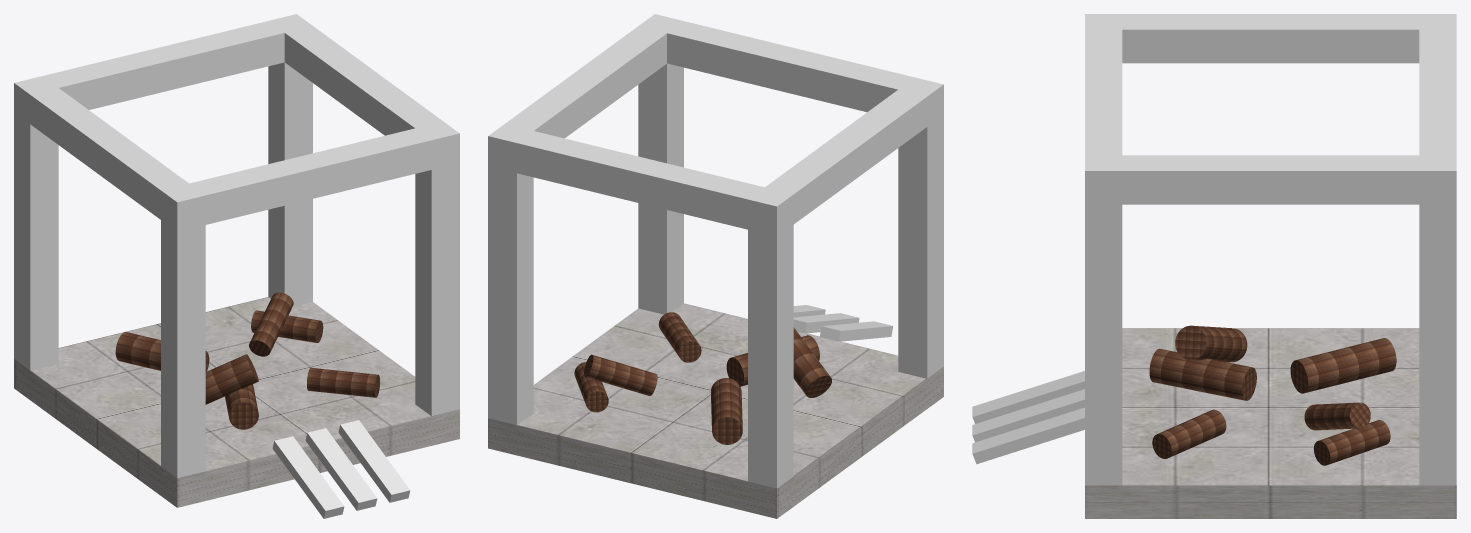
File: woodField.fbx
3 renders of one model, left to right at view 1: azimuth 30°, elevation 25°; view 2: azimuth 150°, elevation 25°; view 3: azimuth 270°, elevation 25°, orthographic. The views are drawn at different scales.
Visible parts, largest first — view 1: 立方體, 立方體.004, 立方體.003, 立方體.001, 立方體.008, 立方體.005, 立方體.007, 立方體.006, 立方體.002, 立方體.011, 立方體.009, 立方體.010 (+6 smaller); view 2: 立方體, 立方體.001, 立方體.002, 立方體.004, 立方體.007, 立方體.005, 立方體.008, 立方體.006, 立方體.003, 圓柱體.004, 圓柱體.006, 圓柱體.005 (+5 smaller); view 3: 立方體, 立方體.006, 立方體.005, 立方體.002, 立方體.003, 立方體.007, 立方體.008, 圓柱體.004, 圓柱體.003, 立方體.010, 圓柱體.005, 立方體.009 (+4 smaller).
Boxes of the visible parts, x1=… form: 立方體: x1=14, y1=297, x2=459, y2=507; 立方體.004: x1=161, y1=220, x2=205, y2=478; 立方體.003: x1=415, y1=163, x2=459, y2=416; 立方體.001: x1=14, y1=112, x2=58, y2=370; 立方體.008: x1=189, y1=128, x2=431, y2=224; 立方體.005: x1=14, y1=76, x2=205, y2=231; 立方體.007: x1=43, y1=21, x2=284, y2=109; 立方體.006: x1=269, y1=14, x2=459, y2=169; 立方體.002: x1=268, y1=62, x2=312, y2=306; 立方體.011: x1=272, y1=436, x2=344, y2=518; 立方體.009: x1=305, y1=428, x2=377, y2=510; 立方體.010: x1=338, y1=420, x2=410, y2=502; 立方體: x1=488, y1=303, x2=943, y2=518; 立方體.001: x1=748, y1=225, x2=793, y2=488; 立方體.002: x1=488, y1=166, x2=533, y2=425; 立方體.004: x1=898, y1=115, x2=943, y2=378; 立方體.007: x1=517, y1=131, x2=764, y2=229; 立方體.005: x1=748, y1=77, x2=943, y2=236; 立方體.008: x1=667, y1=21, x2=914, y2=112; 立方體.006: x1=488, y1=14, x2=683, y2=173; 立方體.003: x1=638, y1=63, x2=683, y2=314; 圓柱體.004: x1=711, y1=378, x2=742, y2=444; 圓柱體.006: x1=584, y1=354, x2=657, y2=395; 圓柱體.005: x1=793, y1=327, x2=831, y2=397; 立方體: x1=1085, y1=328, x2=1456, y2=518; 立方體.006: x1=1085, y1=155, x2=1456, y2=204; 立方體.005: x1=1085, y1=14, x2=1456, y2=63; 立方體.002: x1=1419, y1=204, x2=1456, y2=485; 立方體.003: x1=1085, y1=204, x2=1122, y2=485; 立方體.007: x1=1419, y1=29, x2=1456, y2=155; 立方體.008: x1=1085, y1=29, x2=1122, y2=155; 圓柱體.004: x1=1290, y1=338, x2=1396, y2=393; 圓柱體.003: x1=1149, y1=348, x2=1256, y2=400; 立方體.010: x1=972, y1=407, x2=1084, y2=464; 圓柱體.005: x1=1175, y1=325, x2=1247, y2=362; 立方體.009: x1=972, y1=389, x2=1084, y2=442.
Bounding box in the file's own units: 600 × 621 × 782.
3 materials, 2 textured.
